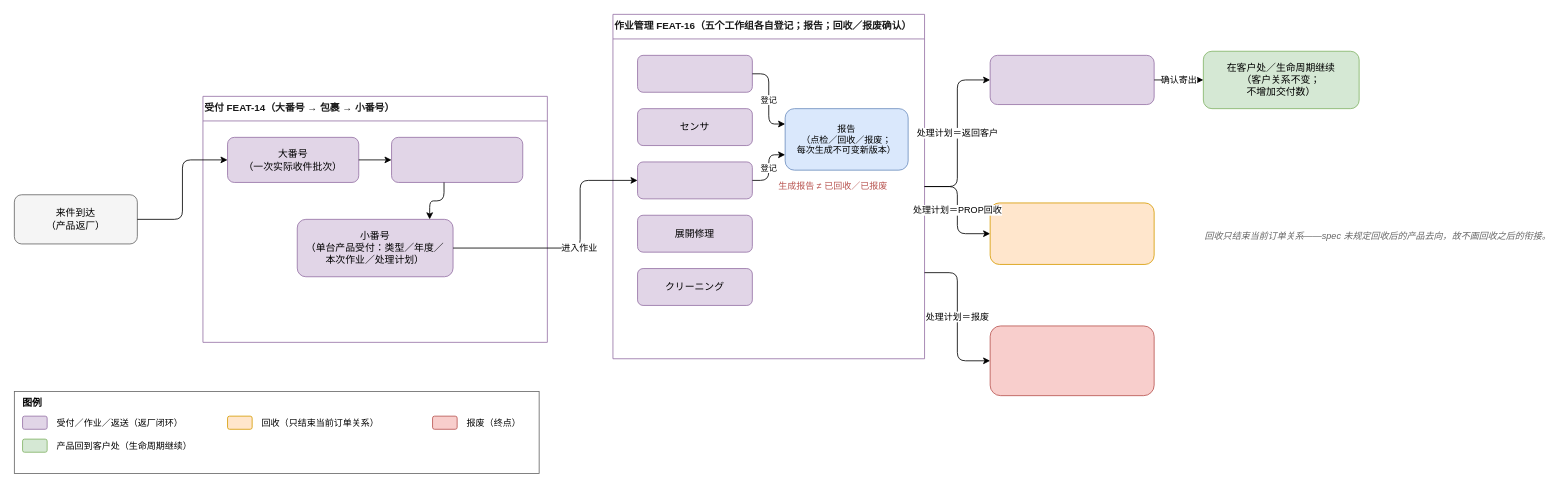
Image size: 1565x488. Some labels were removed from this diagram. Each missing label, with the centre of its shape:
包裹 （实际物理包裹）: (457,159)
确认回收 （结束当前订单关系； 历史保留，履约数不扣减）: (1071,233)
确认报废 （生命周期终点，不可逆； 禁止出货与再受付； 部件个体不随之报废）: (1071,360)
組立: (694,180)
縫製: (694,73)
返送 FEAT-17 （确认寄出＝正式返送事实）: (1071,80)
